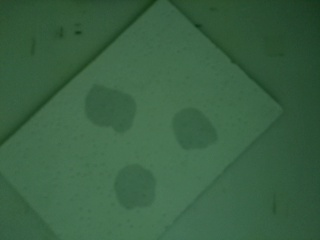Water_detected: (88, 98, 135, 135), (182, 107, 218, 151), (114, 174, 155, 211)
